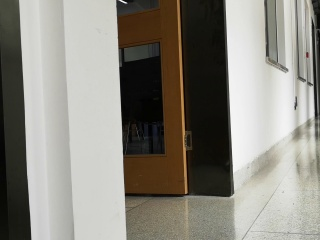room: (114, 1, 235, 200)
